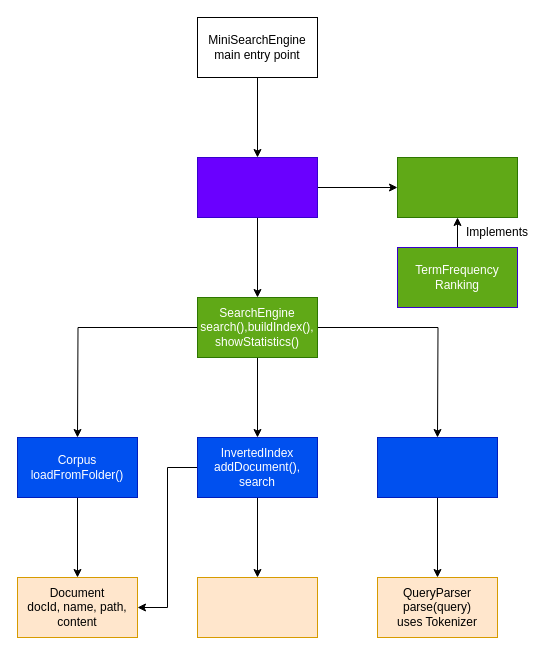
The diagram is 546 pixels wide and 655 high, and some of its shapes have lost their labels. The shapes that lost their labels are listed below. From the top down, each one's centre as x and y in pixels, then its label:
(257,187): TerminalInterface runMenu(path)
(457,187): <Interface> RankingStrategy
(437,467): Tokenizer tokenize(text)
(257,607): SearchResult document, score, .toString()
